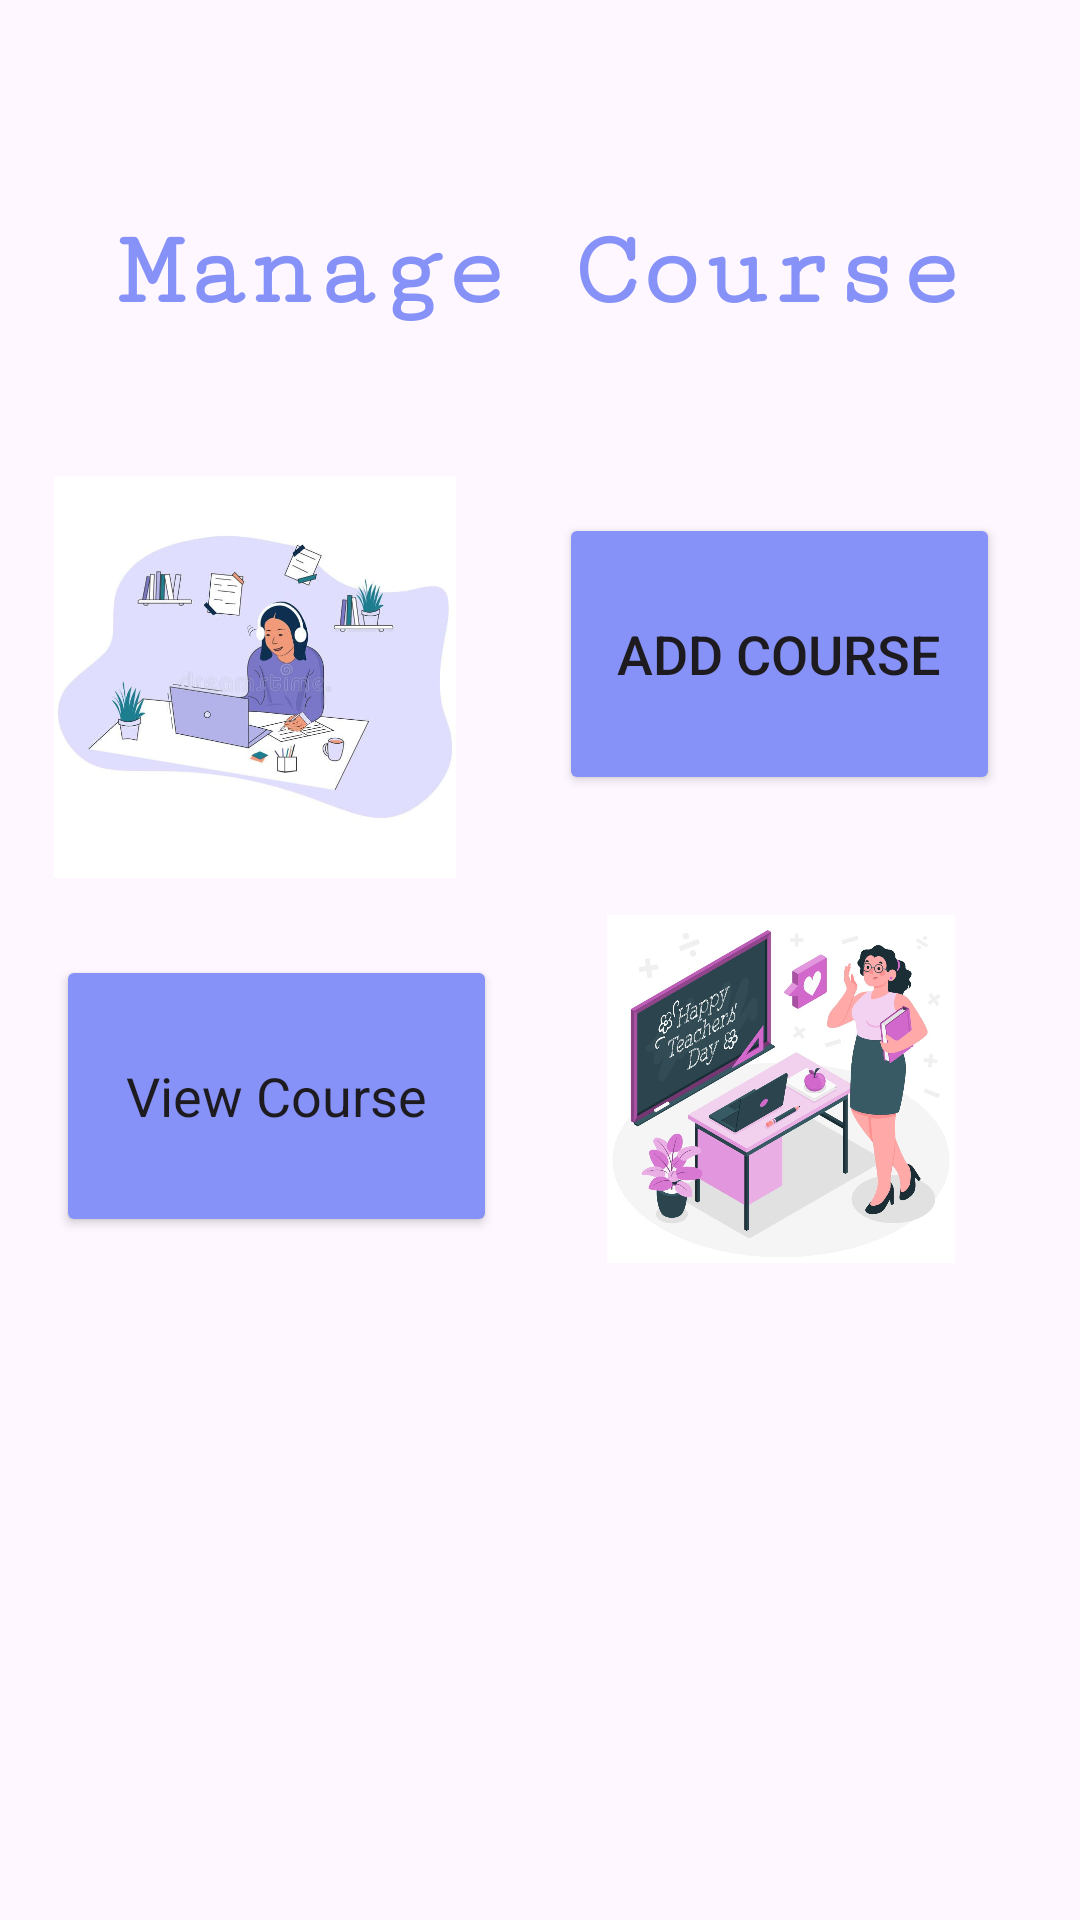

Locate icon controls on the screen. Image size 1080 × 1920, boxes as box=[x1, y1, x2, y2].
teacher login: box=[631, 930, 935, 1238]
